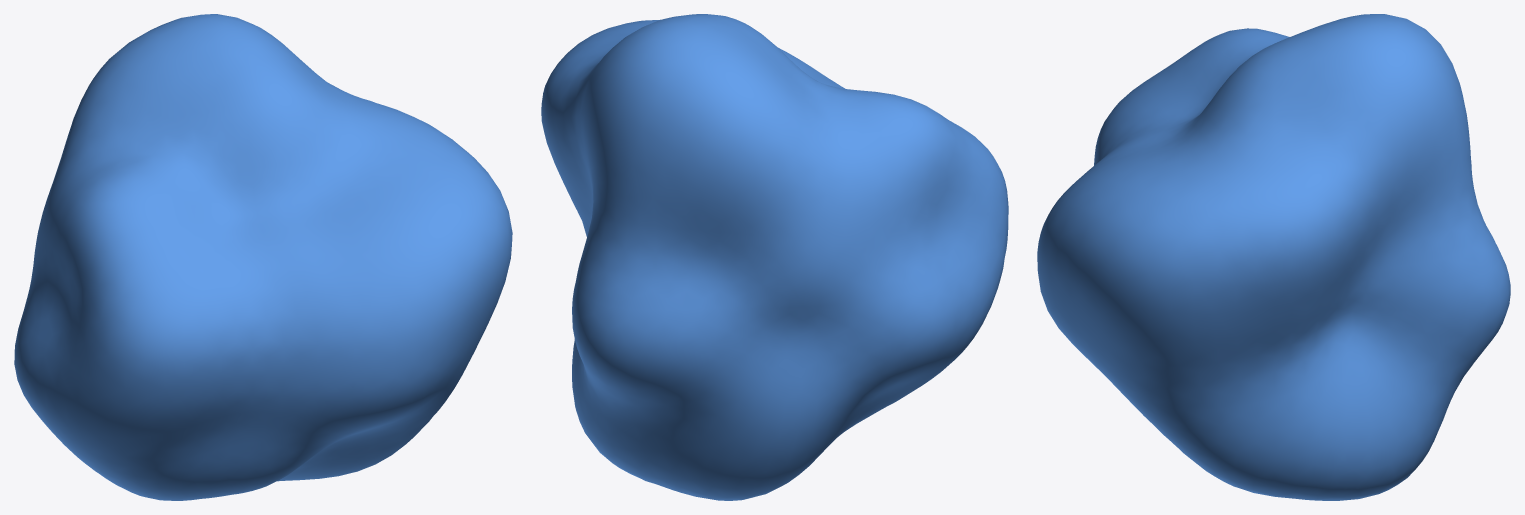
File: blob_a.glb
3 views of the same model, side by side, from view 1: azimuth 30°, elevation 25°; view 2: azimuth 150°, elevation 25°; view 3: azimuth 270°, elevation 25° (orthographic).
Visible parts, largest first — view 1: Icosphere; view 2: Icosphere; view 3: Icosphere.
Part boxes in pixels (<box>): Icosphere: <box>14,14,512,500</box>; Icosphere: <box>541,14,1008,500</box>; Icosphere: <box>1037,14,1510,500</box>.
Bounding box in the file's own units: 2.25 × 2.3 × 2.18.
